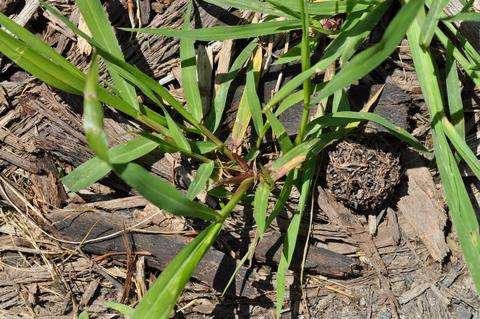crabgrass: (26, 5, 480, 274)
